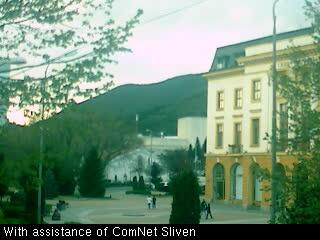person: (206, 203, 214, 219), (200, 197, 207, 214), (151, 195, 157, 209), (147, 195, 153, 209)
